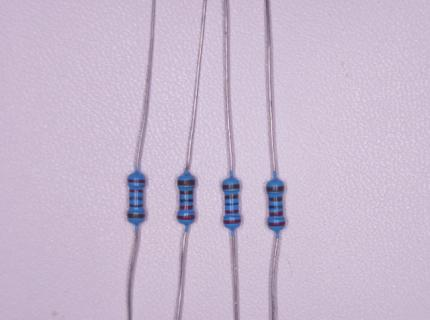Black band: (224, 201, 238, 206), (269, 204, 283, 209), (180, 198, 193, 202), (130, 197, 143, 200)
Brown band: (266, 185, 284, 192), (222, 184, 241, 189), (178, 180, 196, 185), (224, 194, 239, 200), (127, 213, 145, 218), (268, 196, 282, 202), (179, 190, 193, 195), (129, 204, 144, 207)
Red band: (268, 221, 285, 226), (127, 179, 146, 183), (176, 215, 195, 219), (225, 209, 239, 214), (223, 220, 240, 224), (180, 205, 193, 210), (270, 211, 283, 216), (130, 189, 143, 192)
